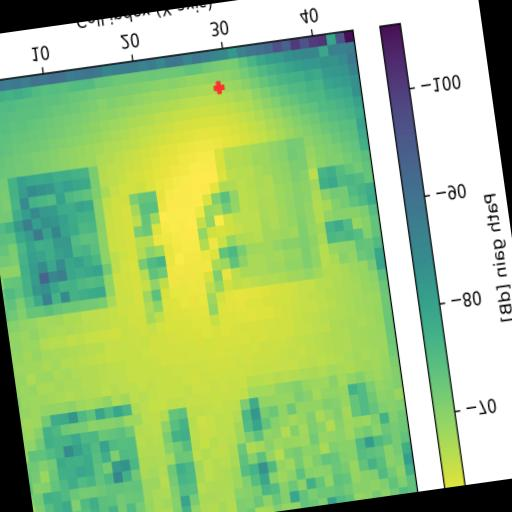Concrete: (258, 374, 382, 512)
Glass: (39, 405, 147, 512)
Metal: (214, 135, 325, 287)
Wood: (6, 166, 118, 320)
